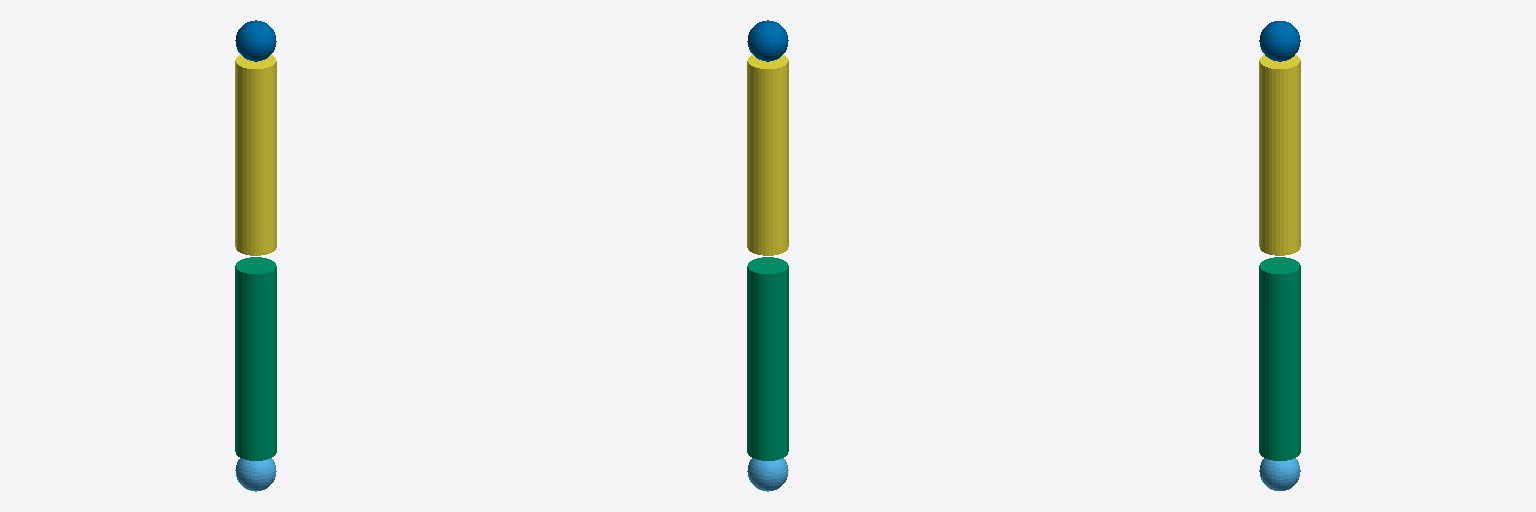
robot.urdf — panda_description:
<?xml version="1.0" encoding="utf-8"?>
<!-- =================================================================================== -->
<!-- |    This document was autogenerated by xacro from panda.urdf.xacro               | -->
<!-- |    EDITING THIS FILE BY HAND IS NOT RECOMMENDED                                 | -->
<!-- =================================================================================== -->
<robot name="panda_description">
  <link name="world"/>
  <joint name="robot_to_world" type="fixed">
    <parent link="world"/>
    <child link="panda_link0"/>
    <origin rpy="0.0 0.0 0.0" xyz="0.0 0.0 0.1"/>
  </joint>
  <!-- end for simulation -->
  <link name="panda_link0">
    <visual>
      <geometry>
        <sphere radius="0.1"/>
      </geometry>
    </visual>
    <collision>
      <geometry>
        <sphere radius="0.1"/>
      </geometry>
    </collision>
    <!-- for simulation -->
    <inertial>
      <origin rpy="0 0 0" xyz="0 0 0.05"/>
      <mass value="1.00"/>
      <inertia ixx="0.25083" ixy="0.0" ixz="0.0" iyy="0.25083" iyz="0.0" izz="0.5"/>
    </inertial>
    <!-- end for simulation -->
  </link>
  <link name="panda_link1">
    <visual>
      <origin xyz="0 0 0.6" rpy="0 0 0"/>
      <geometry>
        <cylinder length="1.0" radius="0.1"/>
      </geometry>
    </visual>
    <collision>
      <origin xyz="0 0 0.6" rpy="0 0 0"/>
      <geometry>
        <cylinder length="1.0" radius="0.1"/>
      </geometry>
    </collision>
    <!-- for simulation -->
    <inertial>
      <origin rpy="0 0 0" xyz="0 0 0.5"/>
      <mass value="1.0"/>
      <inertia ixx="0.0858" ixy="0.0" ixz="0.0" iyy="0.0858" iyz="0.0" izz="0.005"/>
    </inertial>
    <!-- end for simulation -->
  </link>
  <link name="panda_link2">
    <visual>
      <origin xyz="0 0 0.6" rpy="0 0 0"/>
      <geometry>
        <cylinder length="1.0" radius="0.1"/>
      </geometry>
    </visual>
    <collision>
      <origin xyz="0 0 0.6" rpy="0 0 0"/>
      <geometry>
        <cylinder length="1.0" radius="0.1"/>
      </geometry>
    </collision>
    <!-- for simulation -->
    <inertial>
      <origin rpy="0 0 0" xyz="0 0 0.5"/>
      <mass value="1.0"/>
      <inertia ixx="0.0858" ixy="0.0" ixz="0.0" iyy="0.0858" iyz="0.0" izz="0.005"/>
    </inertial>
    <!-- end for simulation -->
  </link>
  <joint name="panda_joint1" type="revolute">
    <safety_controller k_position="100.0" k_velocity="40.0" soft_lower_limit="-2.8973" soft_upper_limit="2.8973"/>
    <origin rpy="0 0 0" xyz="0 0 0.0"/>
    <parent link="panda_link0"/>
    <child link="panda_link1"/>
    <axis xyz="1 0 0"/>
    <limit effort="87" lower="-2.8973" upper="2.8973" velocity="2.1750"/>
    <!-- for simulation -->
    <dynamics damping="0.0" friction="0.0"/>
    <!-- end for simulation -->
  </joint>
  <joint name="panda_joint2" type="revolute">
    <safety_controller k_position="100.0" k_velocity="40.0" soft_lower_limit="-2.8973" soft_upper_limit="2.8973"/>
    <origin rpy="0 0 0" xyz="0 0 1.1"/>
    <parent link="panda_link1"/>
    <child link="panda_link2"/>
    <axis xyz="0 1 0"/>
    <limit effort="87" lower="-2.8973" upper="2.8973" velocity="2.1750"/>
    <!-- for simulation -->
    <dynamics damping="0.0" friction="0.0"/>
    <!-- end for simulation -->
  </joint>
  <link name="panda_link3">
    <visual>
      <origin xyz="0 0 0.005" rpy="0 0 0"/>
      <geometry>
        <sphere radius="0.1"/>
      </geometry>
    </visual>
    <collision>
      <geometry>
        <sphere radius="0.01"/>
      </geometry>
    </collision>
    <!-- for simulation -->
    <inertial>
      <origin rpy="0 0 0" xyz="0 0 0.005"/>
      <mass value="0.0001"/>
      <inertia ixx="0.00005" ixy="0.0" ixz="0.0" iyy="0.00005" iyz="0.0" izz="0.00005"/>
    </inertial>
    <!-- end for simulation -->
  </link>
  <joint name="panda_joint3" type="fixed">
    <origin rpy="0 0 0" xyz="0 0 1.2"/>
    <parent link="panda_link2"/>
    <child link="panda_link3"/>
    <axis xyz="0 0 1"/>
  </joint>
  <!-- end for simulation -->
</robot>

--- Facts derived from the render (not from the file) ---
3 views of the same robot in one strip: view 1: azimuth 30°, elevation 25°; view 2: azimuth 150°, elevation 25°; view 3: azimuth 270°, elevation 25° (orthographic).
Model panda_description with 5 links and 4 joints (2 revolute, 2 fixed), rooted at world, posed all joints at 0.
Links seen in each view (by area): view 1: panda_link1, panda_link2, panda_link3, panda_link0; view 2: panda_link1, panda_link2, panda_link3, panda_link0; view 3: panda_link1, panda_link2, panda_link3, panda_link0.
Link boxes in pixels (box(x1,y1,x2,y2)): panda_link1: box(235, 257, 276, 460); panda_link2: box(235, 55, 276, 255); panda_link3: box(235, 20, 276, 61); panda_link0: box(235, 458, 276, 491); panda_link1: box(747, 257, 788, 460); panda_link2: box(747, 55, 788, 255); panda_link3: box(747, 20, 788, 61); panda_link0: box(747, 458, 788, 491); panda_link1: box(1259, 257, 1300, 460); panda_link2: box(1259, 55, 1300, 255); panda_link3: box(1259, 21, 1300, 61); panda_link0: box(1259, 458, 1300, 490).
Bounding box of the posed robot: 0.2 × 0.2 × 2.5 m (x, y, z).
Geometry: primitives only (box / cylinder / sphere), no mesh files.